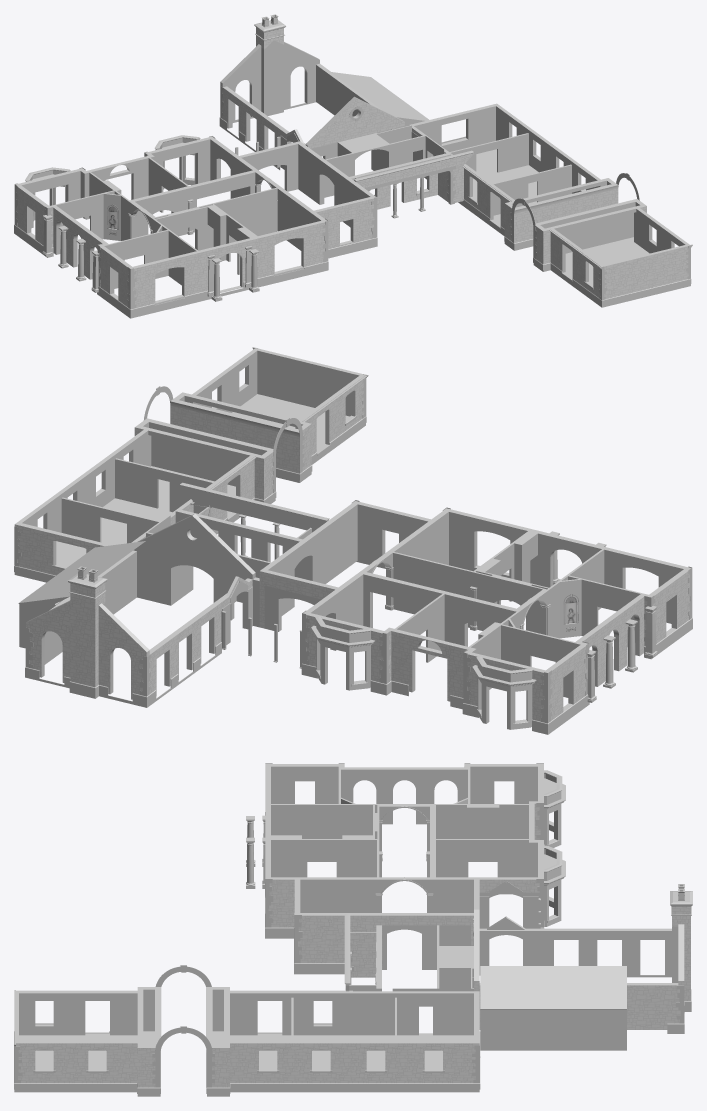
The model's file is RB05__Storey__GroundFloor__ProposedWalls__MeshModel__.glb.
The picture shows the model from 3 angles, top to bottom: view 1: azimuth 30°, elevation 25°; view 2: azimuth 150°, elevation 25°; view 3: azimuth 270°, elevation 25°; orthographic projection. The views are drawn at different scales.
Visible parts, largest first — view 1: 21__ProposedBuilding__Walls::Default, 21__ProposedBuilding__Walls::MAT000E__Masonry__StoneworkPatt; view 2: 21__ProposedBuilding__Walls::Default, 21__ProposedBuilding__Walls::MAT000E__Masonry__StoneworkPatt; view 3: 21__ProposedBuilding__Walls::Default, 21__ProposedBuilding__Walls::MAT000E__Masonry__StoneworkPatt.
Part boxes in pixels (x1,y1,x2,y2): 21__ProposedBuilding__Walls::Default: (14, 20, 692, 318); 21__ProposedBuilding__Walls::MAT000E__Masonry__StoneworkPatt: (16, 27, 688, 307); 21__ProposedBuilding__Walls::Default: (14, 347, 692, 734); 21__ProposedBuilding__Walls::MAT000E__Masonry__StoneworkPatt: (14, 379, 690, 721); 21__ProposedBuilding__Walls::Default: (14, 763, 692, 1096); 21__ProposedBuilding__Walls::MAT000E__Masonry__StoneworkPatt: (16, 803, 690, 1087).
Size of the model in its own units: 42.08 by 8.65 by 44.12.
Materials: 4 (2 with a texture image).
